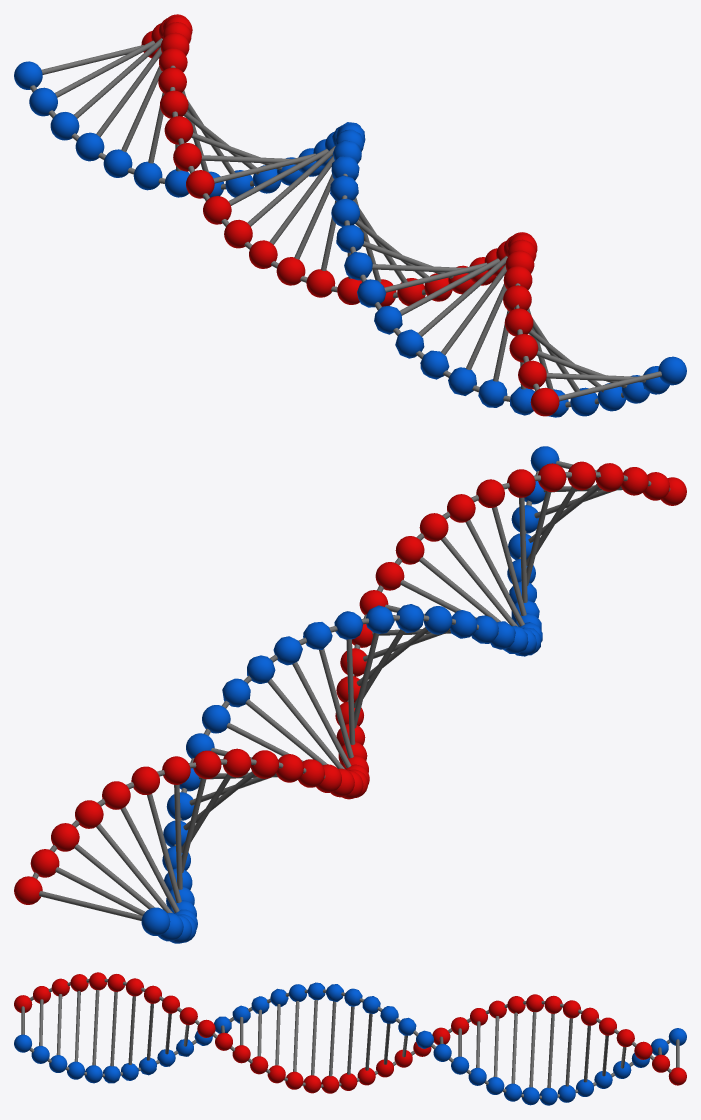
The model's file is mdna.obj.
The picture shows the model from 3 angles, top to bottom: view 1: azimuth 30°, elevation 25°; view 2: azimuth 150°, elevation 25°; view 3: azimuth 270°, elevation 25°; orthographic projection. The views are drawn at different scales.
Visible parts, largest first — view 1: wappp_34, wappp_106, wappp_70, wappp_37, dasdfvasdf, wappp_73, ww1, cpea_1_35, cpea_1_36, cpea_1_34, cpea_22, cpea_23 (+29 smaller); view 2: no part large enough to name; view 3: vzxcv, wappp_88, wappp_52, wappp_55, wappp_19, wappp_91, wappp_85, wappp_49, asdf, wappp_22, wappp_58, wappp_94 (+77 smaller).
Boxes of the visible parts, x1,y1,x2,y2 form: wappp_34: (418, 256, 507, 336); wappp_106: (74, 38, 162, 118); wappp_70: (247, 146, 335, 226); wappp_37: (400, 258, 499, 315); dasdfvasdf: (55, 40, 154, 97); wappp_73: (228, 148, 328, 205); ww1: (530, 387, 559, 416); cpea_1_35: (75, 132, 104, 161); cpea_1_36: (50, 112, 79, 140); cpea_1_34: (103, 149, 132, 177); cpea_22: (276, 257, 305, 285); cpea_23: (249, 240, 277, 268); vzxcv: (92, 990, 99, 1065); wappp_88: (529, 1012, 536, 1087); wappp_52: (311, 1000, 317, 1075); wappp_55: (329, 1001, 336, 1076); wappp_19: (110, 991, 117, 1066); wappp_91: (547, 1013, 554, 1088); wappp_85: (511, 1012, 517, 1083); wappp_49: (293, 1001, 299, 1071); asdf: (74, 991, 80, 1061); wappp_22: (128, 996, 135, 1064); wappp_58: (347, 1006, 354, 1074); wappp_94: (565, 1018, 572, 1086).
Bounding box in the file's own units: 6.79 × 8.18 × 40.59.
